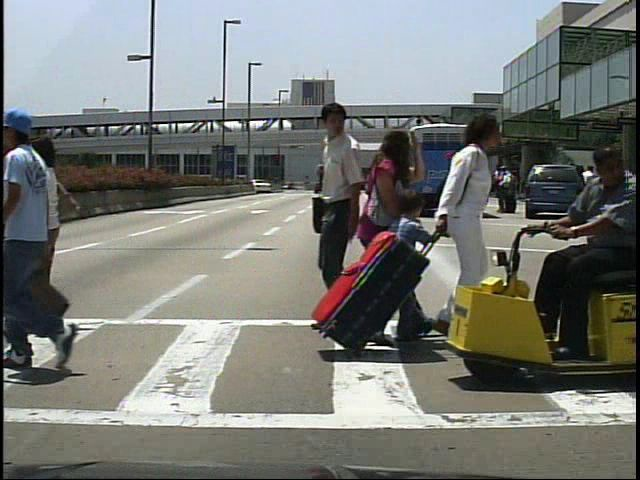person: (305, 101, 405, 349), (541, 146, 640, 361), (423, 108, 508, 310), (356, 123, 423, 354), (15, 133, 80, 332), (389, 184, 434, 318), (582, 163, 602, 218), (497, 164, 517, 214), (498, 166, 516, 219)
